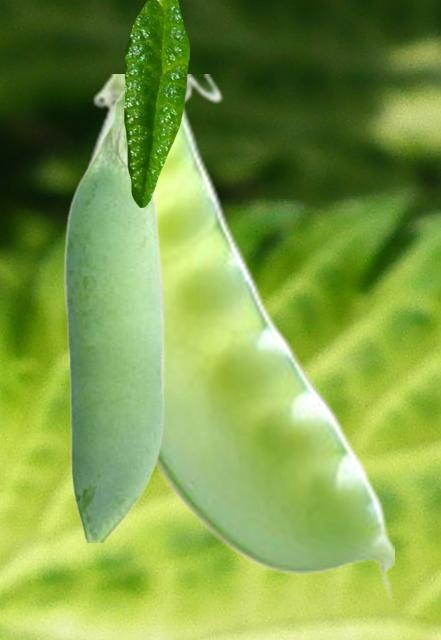pea: (78, 74, 393, 603), (63, 89, 163, 541)
